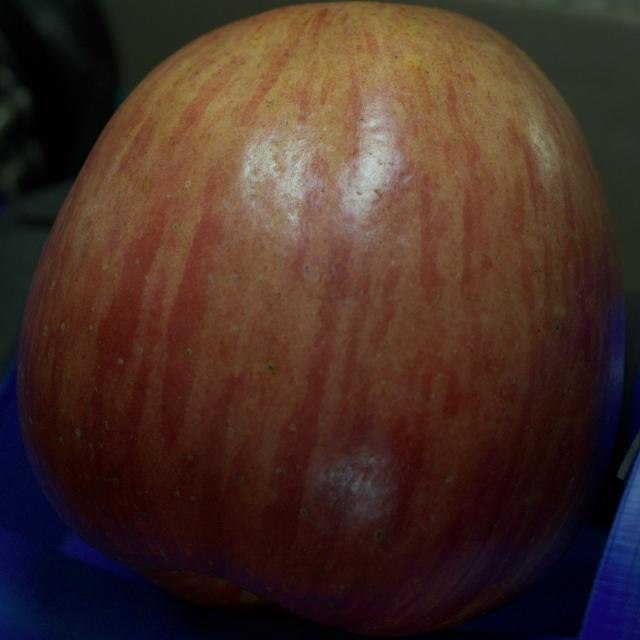apple: (17, 4, 624, 634)
